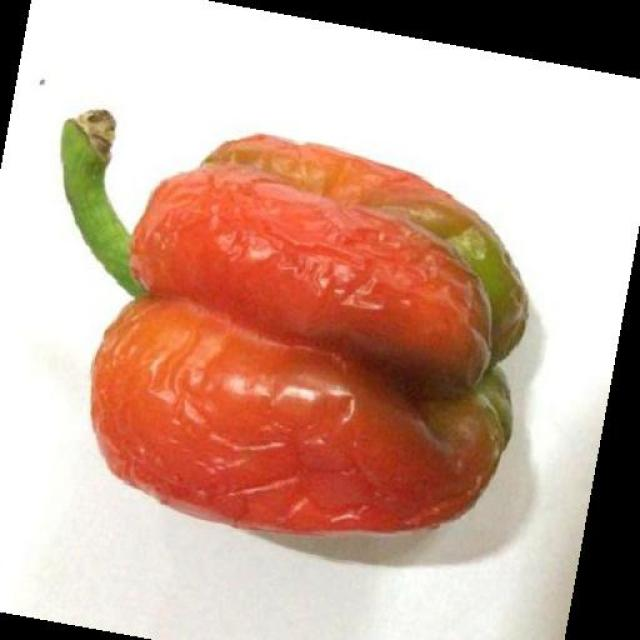Stale_Capsicum: (108, 95, 520, 567)
